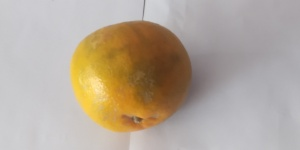BAD: (69, 20, 193, 134)
